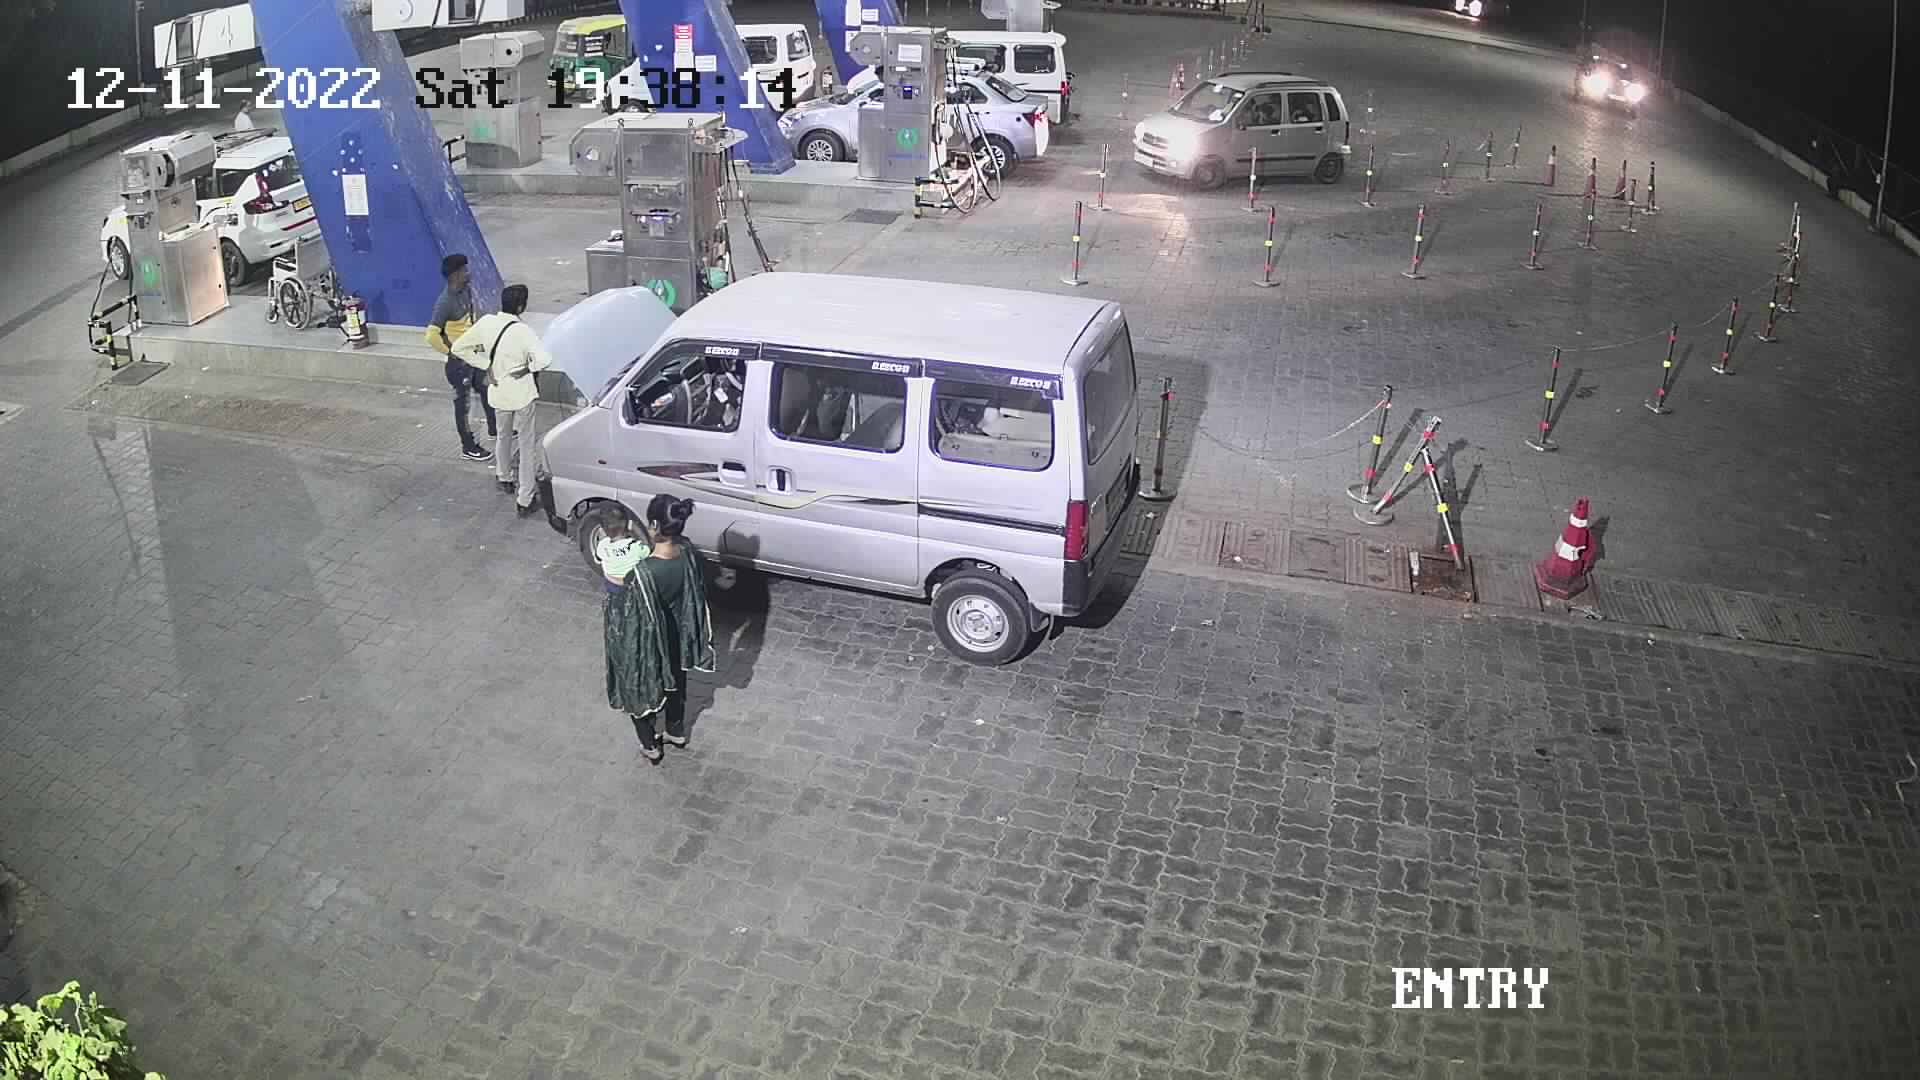Auto: (527, 5, 646, 111)
Car: (527, 262, 1154, 678), (1125, 44, 1362, 202), (934, 47, 1059, 186), (938, 18, 1083, 137), (731, 13, 831, 117), (1559, 32, 1656, 125), (84, 186, 142, 281)
